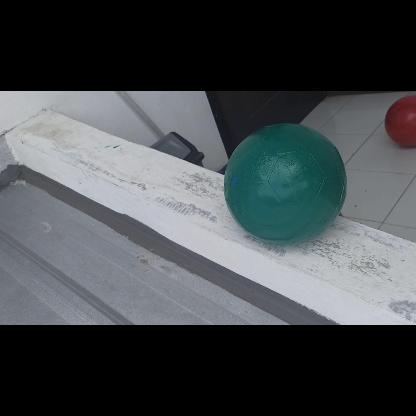green_ball: (224, 122, 346, 244)
